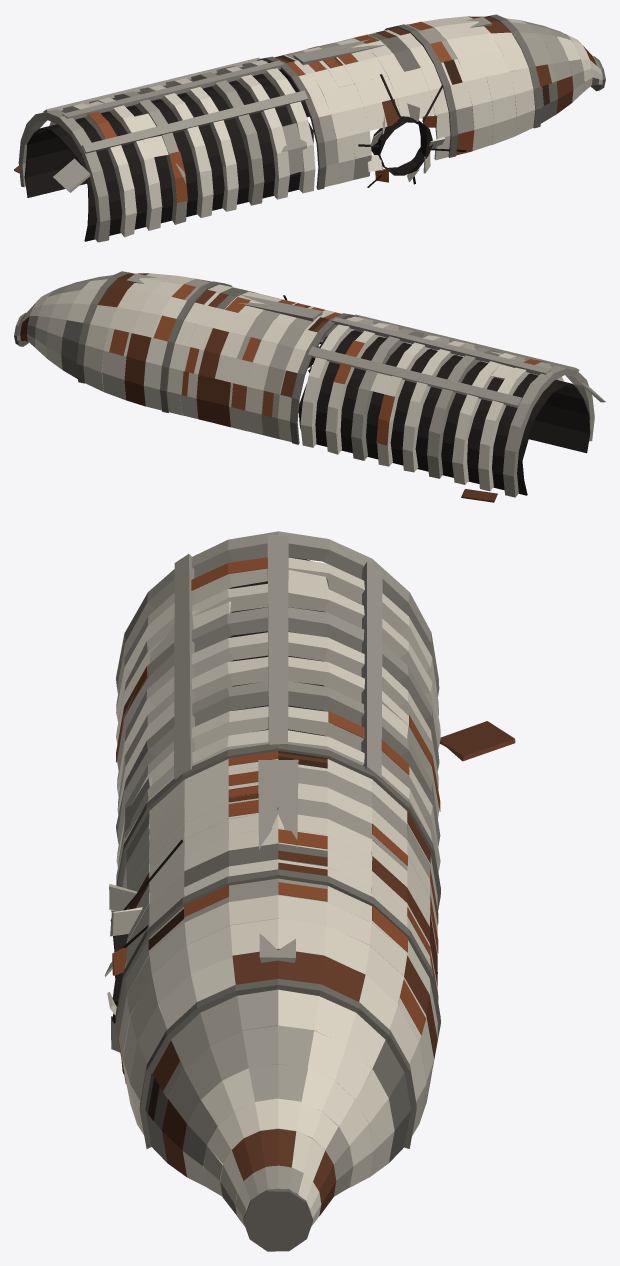
The model's file is ship_bow.glb.
3 renders of one model, top to bottom at view 1: azimuth 30°, elevation 25°; view 2: azimuth 150°, elevation 25°; view 3: azimuth 270°, elevation 25°, orthographic. The views are drawn at different scales.
Parts seen in each view (by area): view 1: ship_bow; view 2: ship_bow; view 3: ship_bow.
Boxes of the visible parts, x1=… form: ship_bow: x1=14, y1=14, x2=605, y2=242; ship_bow: x1=14, y1=271, x2=605, y2=502; ship_bow: x1=104, y1=531, x2=515, y2=1251.
Bounding box in the file's own units: 138 × 28.76 × 43.76.
